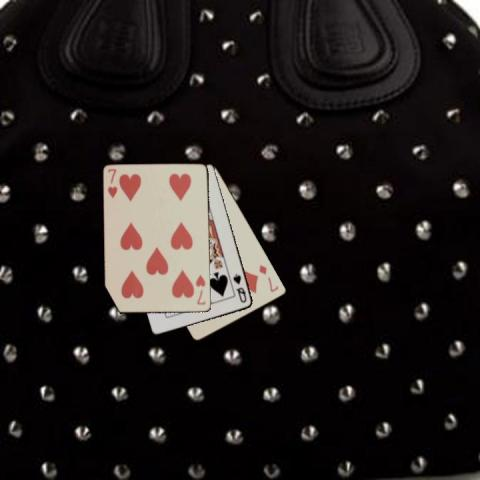7d: (256, 262, 280, 293)
7h: (192, 272, 206, 306), (105, 166, 119, 199)
Qs: (230, 271, 248, 304)
